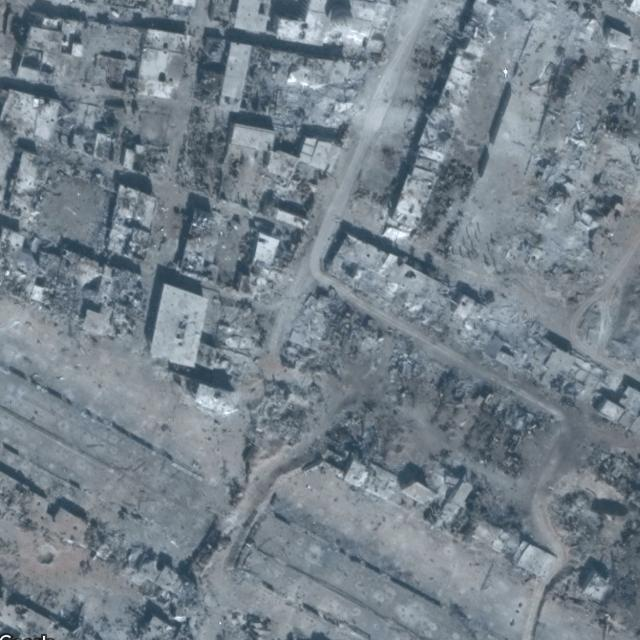damaged_building: (0, 286, 640, 637), (0, 6, 382, 409), (321, 0, 640, 439)
